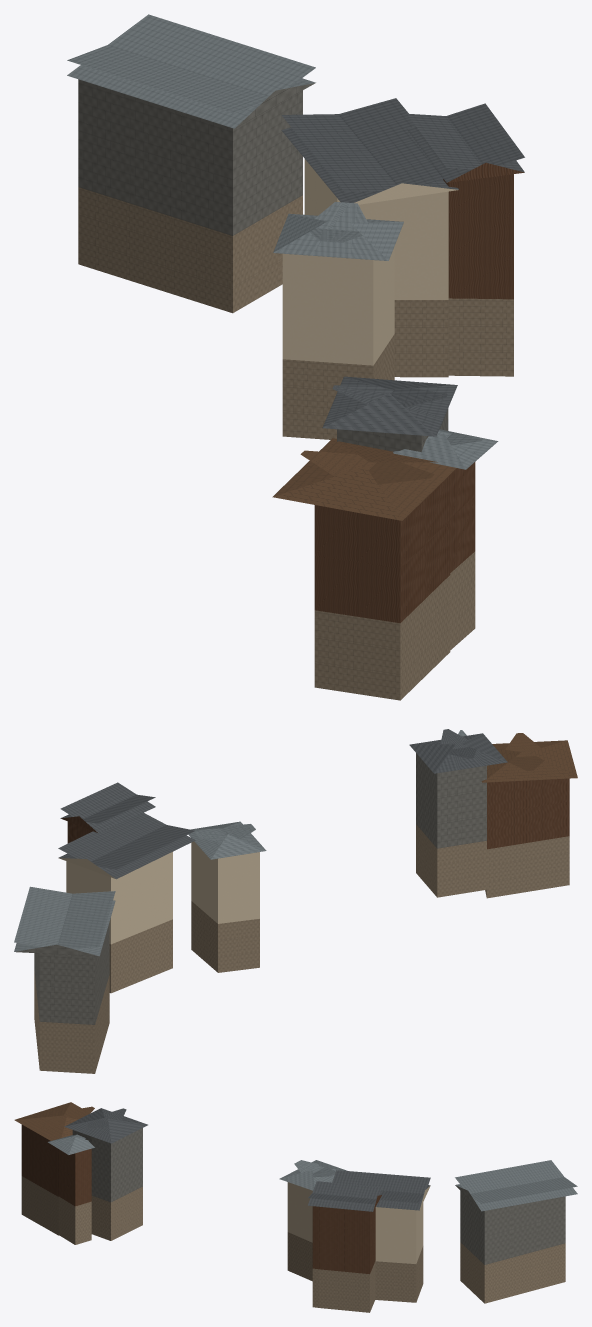
The model's file is bld_c38_-12_540.gltf.
The picture shows the model from 3 angles, top to bottom: view 1: azimuth 30°, elevation 25°; view 2: azimuth 150°, elevation 25°; view 3: azimuth 270°, elevation 25°; orthographic projection. The views are drawn at different scales.
Visible parts, largest first — view 1: bld_c38_-12_540; view 2: bld_c38_-12_540; view 3: bld_c38_-12_540.
Part boxes in pixels (bbox=[...]): bld_c38_-12_540: bbox=[67, 14, 524, 700]; bld_c38_-12_540: bbox=[14, 729, 577, 1073]; bld_c38_-12_540: bbox=[14, 1102, 577, 1312].
Size of the model in its own units: 35.57 by 15.4 by 67.45.
10 materials, 10 textured.
